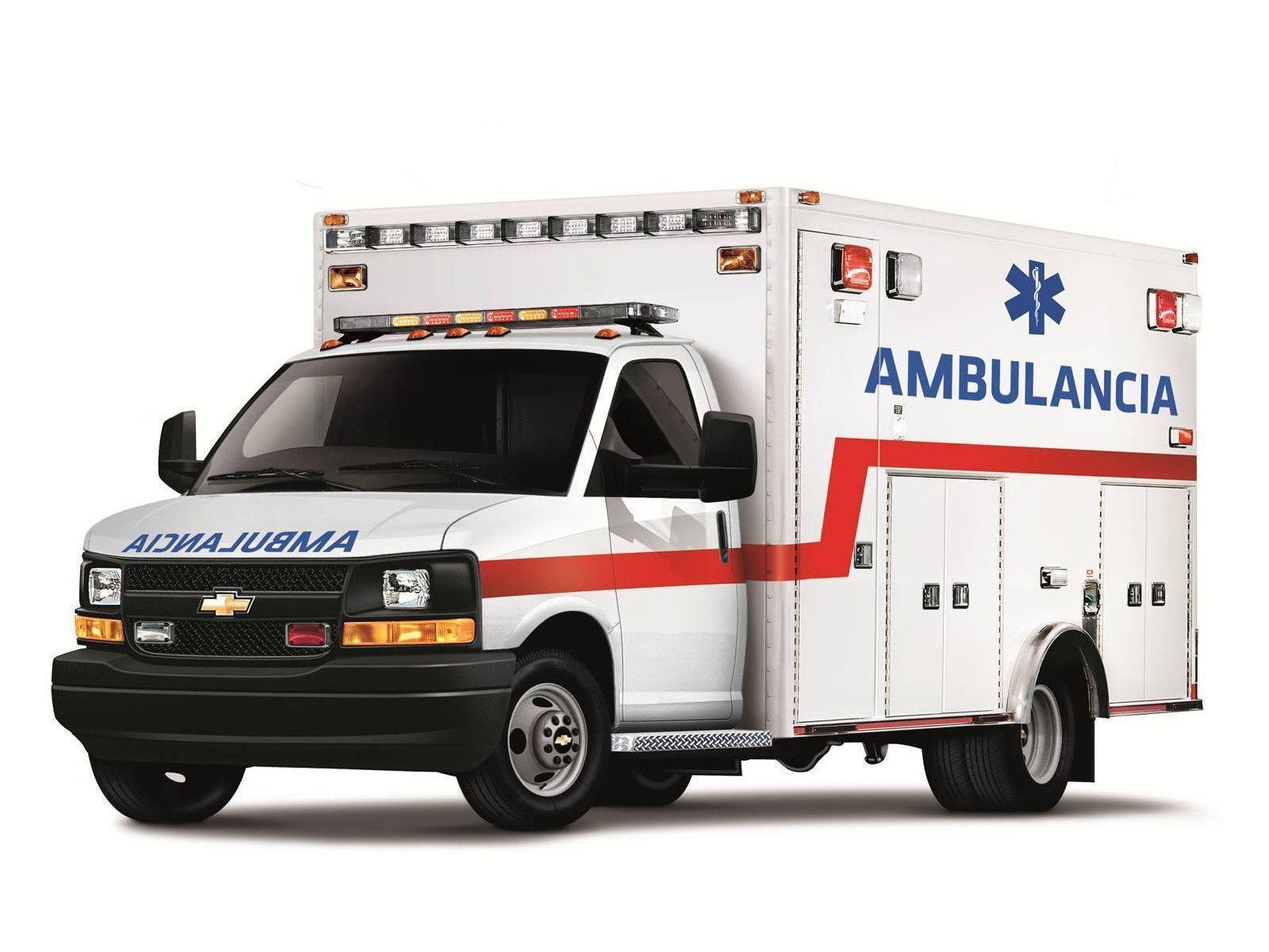Ambulance: (853, 337, 1192, 425), (115, 524, 365, 561), (987, 251, 1082, 348)
